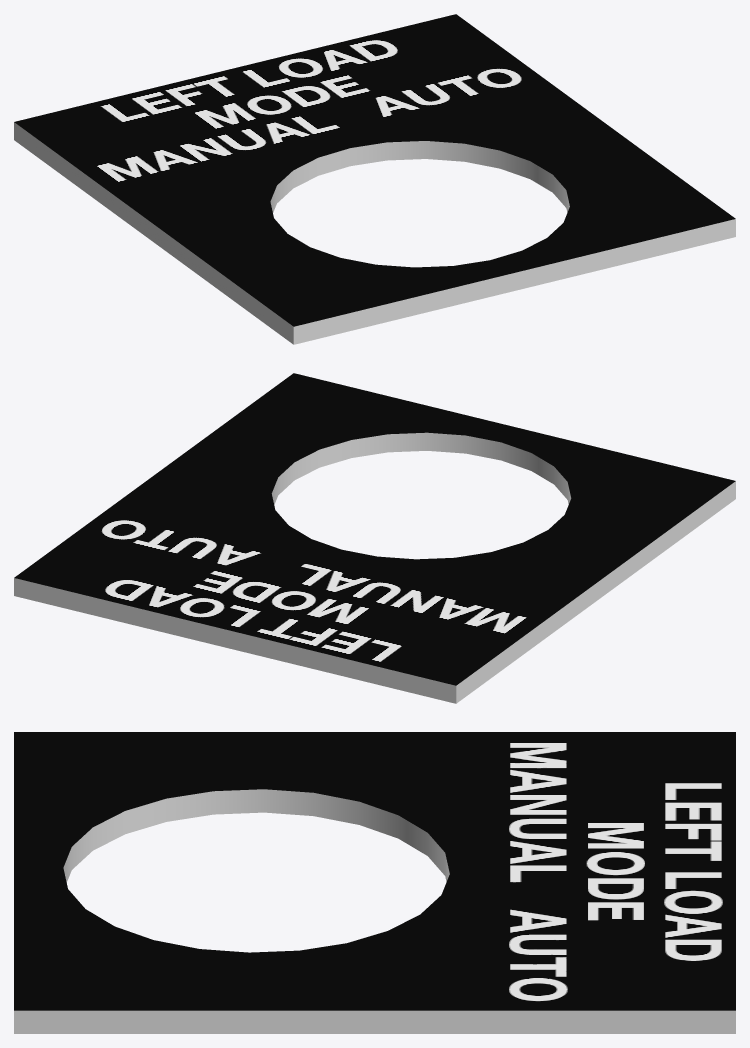
Rendered from leftloadmodemain.dae.
The picture shows the model from 3 angles, top to bottom: view 1: azimuth 30°, elevation 25°; view 2: azimuth 150°, elevation 25°; view 3: azimuth 270°, elevation 25°; orthographic projection. The views are drawn at different scales.
Visible parts, largest first — view 1: SketchUp (×3); view 2: SketchUp (×3); view 3: SketchUp (×3).
Part boxes in pixels (x1=…): SketchUp (×3): x1=14, y1=14, x2=735, y2=344; SketchUp (×3): x1=14, y1=373, x2=735, y2=703; SketchUp (×3): x1=14, y1=732, x2=735, y2=1033.
Size of the model in its own units: 2.01 by 2.2 by 0.0787.
Materials: 2 (1 with a texture image).
